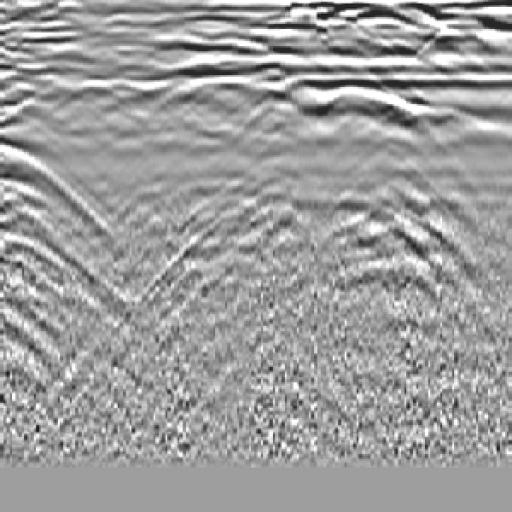metalic: (140, 47, 327, 236)
